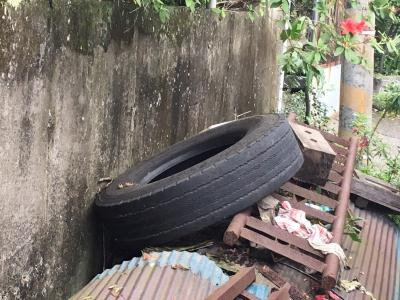tire: (87, 109, 309, 257)
